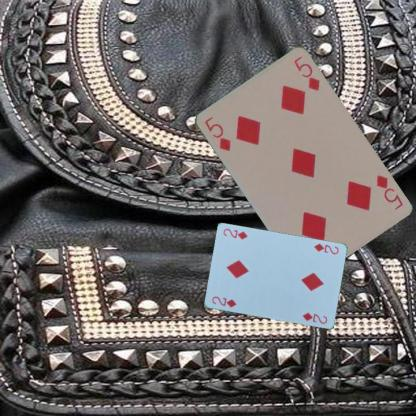2d: (209, 294, 238, 309), (311, 241, 340, 256)
5d: (373, 172, 404, 211), (202, 113, 232, 153)
